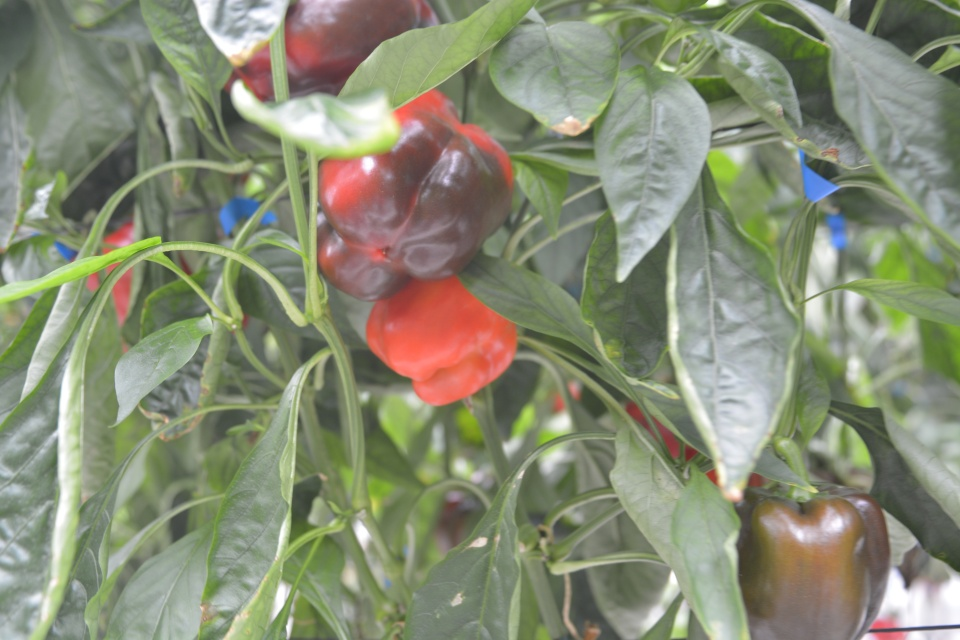fruit: (310, 86, 516, 302), (733, 480, 894, 640), (220, 0, 443, 104), (364, 273, 519, 408), (85, 219, 192, 325)
pedicle: (772, 484, 837, 500)
